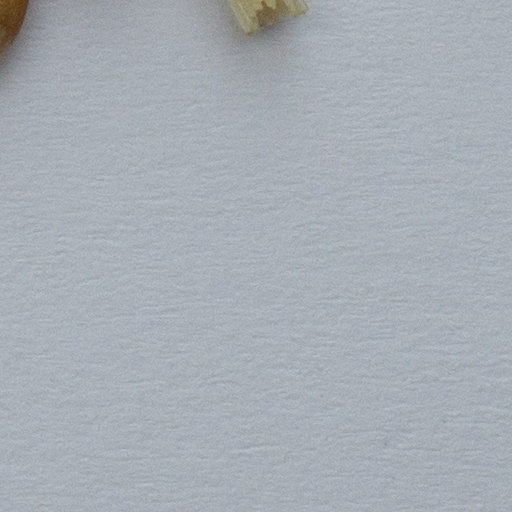Peel-poly: (227, 0, 306, 34)
